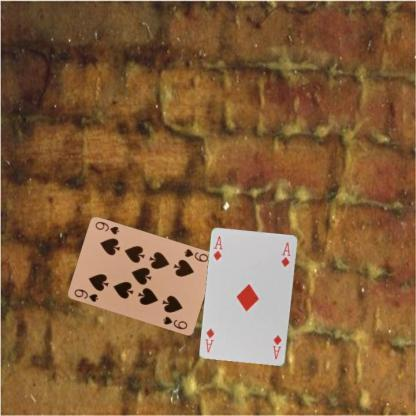9s: (180, 246, 210, 264), (71, 286, 99, 304)
Ad: (270, 332, 284, 360), (211, 233, 223, 262)
